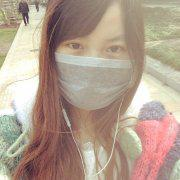OK: (55, 30, 136, 111)
